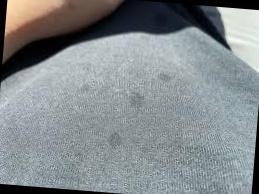oil: (126, 90, 144, 107), (153, 67, 172, 83), (108, 131, 117, 144), (78, 82, 87, 90)
